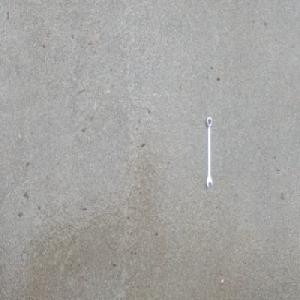Wrench: (205, 115, 213, 189)
